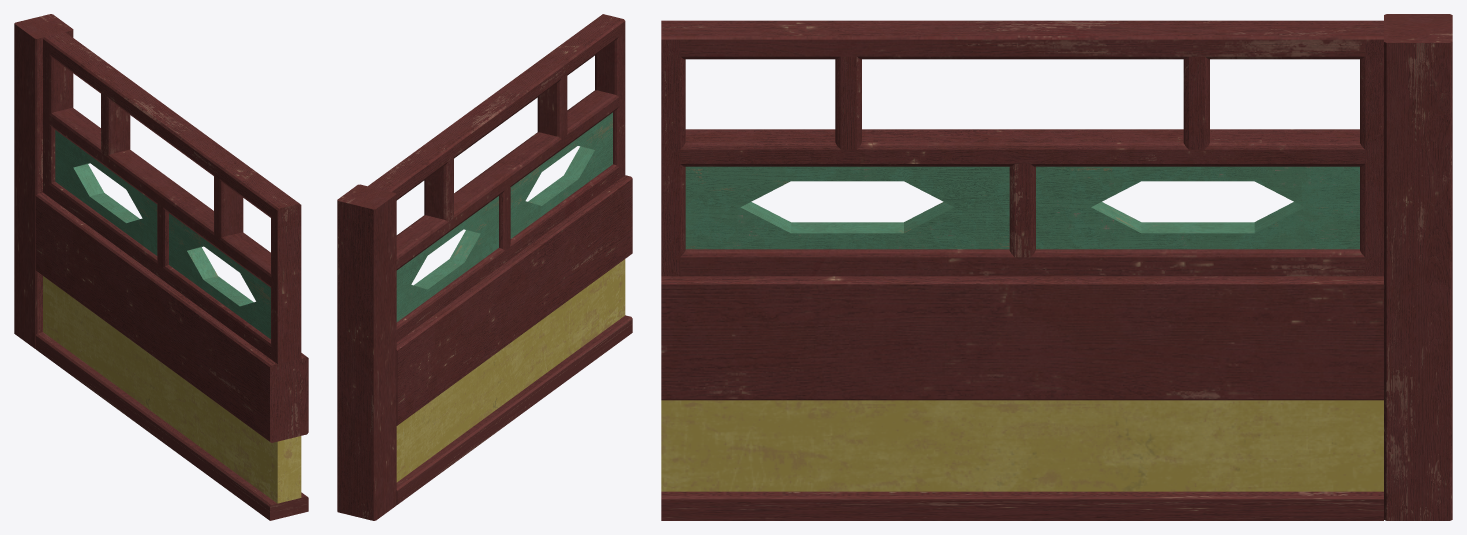
The model's file is SM_Fence01b.fbx.
The picture shows the model from 3 angles, left to right: view 1: azimuth 30°, elevation 25°; view 2: azimuth 150°, elevation 25°; view 3: azimuth 270°, elevation 25°; orthographic projection. The views are drawn at different scales.
Parts seen in each view (by area): view 1: SM_Fence01b; view 2: SM_Fence01b; view 3: SM_Fence01b.
Part boxes in pixels (x1,y1,x2,y2): SM_Fence01b: [14, 14, 308, 520]; SM_Fence01b: [337, 14, 632, 520]; SM_Fence01b: [661, 14, 1452, 520].
Size of the model in its own units: 13 by 100 by 150.
